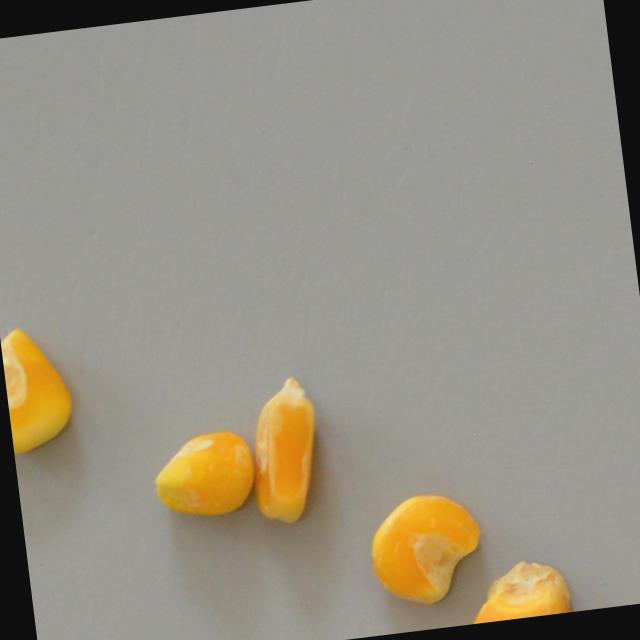dañado: (0, 320, 80, 457), (452, 548, 573, 625)
entero: (240, 368, 329, 528)
pelicula: (360, 483, 491, 613), (146, 423, 260, 527)
